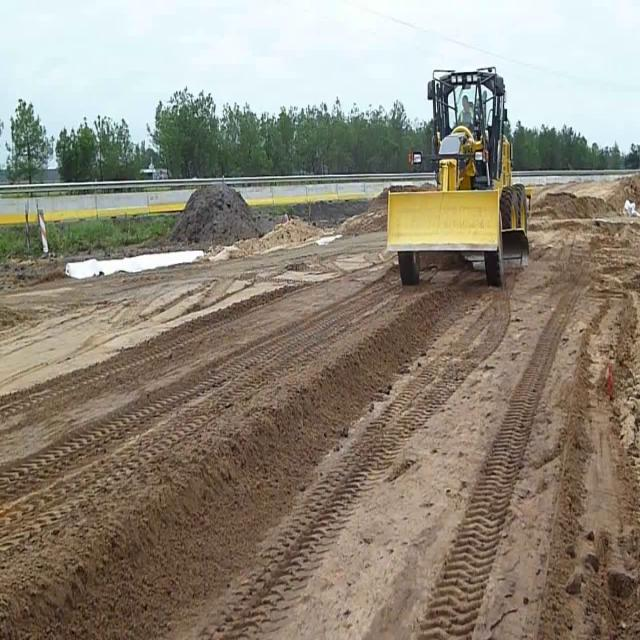buldozerpayloadergrader: (389, 66, 527, 281)
